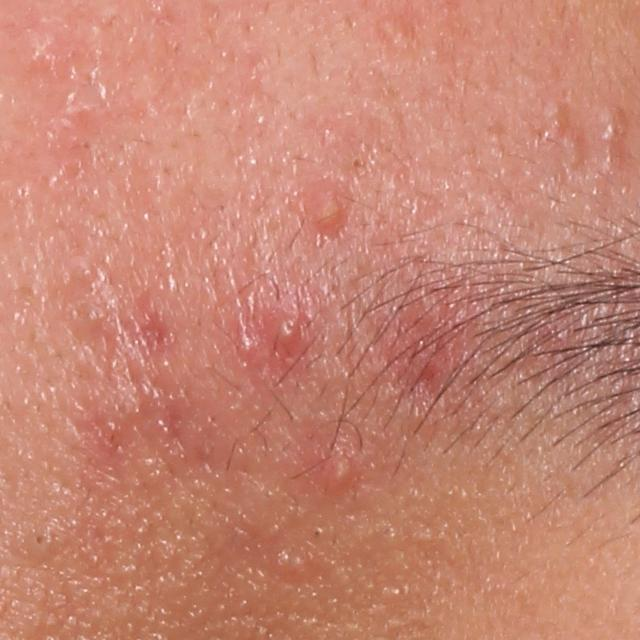comedo: (595, 117, 629, 144), (542, 98, 568, 126), (351, 153, 366, 168)
pustule: (312, 185, 351, 233), (271, 310, 305, 361), (327, 451, 356, 493)
